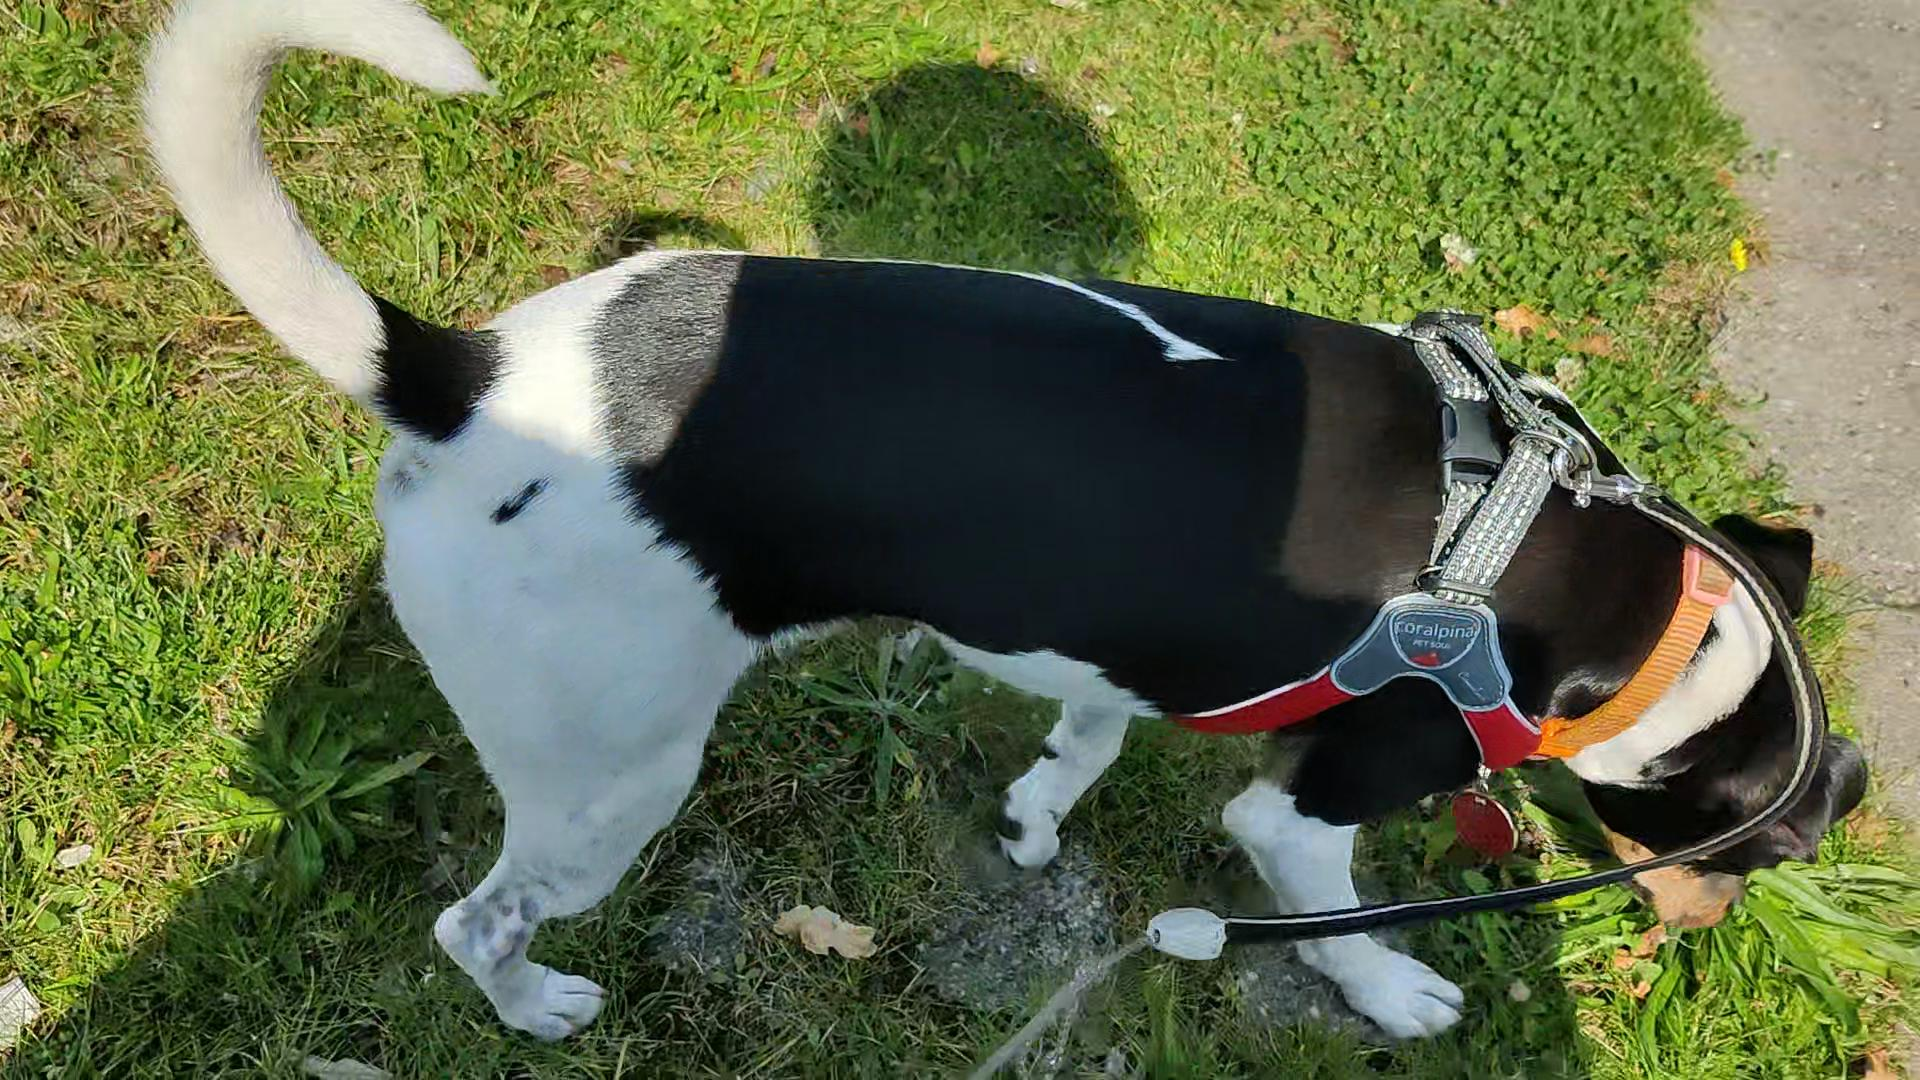Dog: (131, 0, 1870, 1052)
